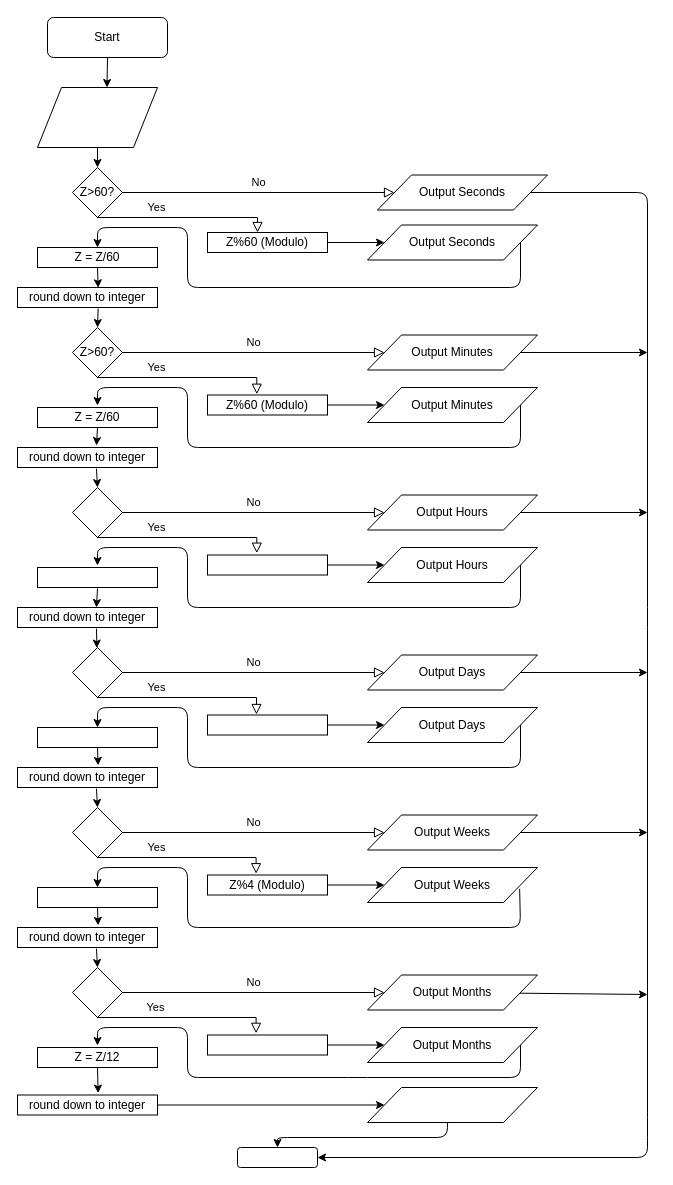
Image size: 673x1185. Some labels were removed from this diagram. The centre of each missing label's shape, as x and y in pixels:
END: point 277,1157
Input 'Z': point 97,117
Output Years: point 452,1104
Z = Z/24: point 97,577
Z = Z/4: point 97,897
Z = Z/7: point 97,737
Z%12 (Modulo): point 267,1044
Z%24 (Modulo): point 267,564
Z%7 (Modulo): point 267,724
Z>12?: point 97,992
Z>24?: point 97,512
Z>4?: point 97,832
Z>7?: point 97,672
